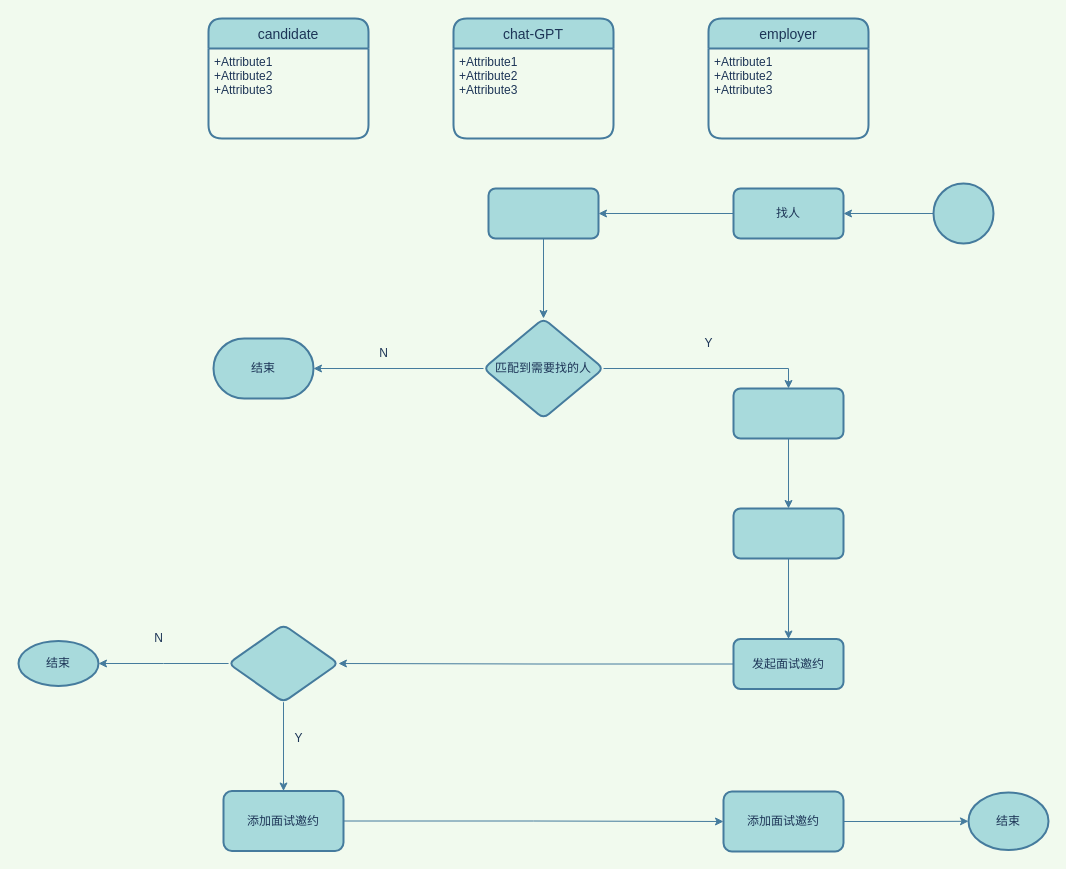
The diagram is 1066 pixels wide and 869 high, and some of its shapes have lost their labels. Each missing label, with the centre of its shape:
"AI推人" goes at point 543,213.
"发起聊天" goes at point 788,413.
"开始" goes at point 963,213.
"是否同意" goes at point 283,663.
"聊天并查看简历" goes at point 788,533.
